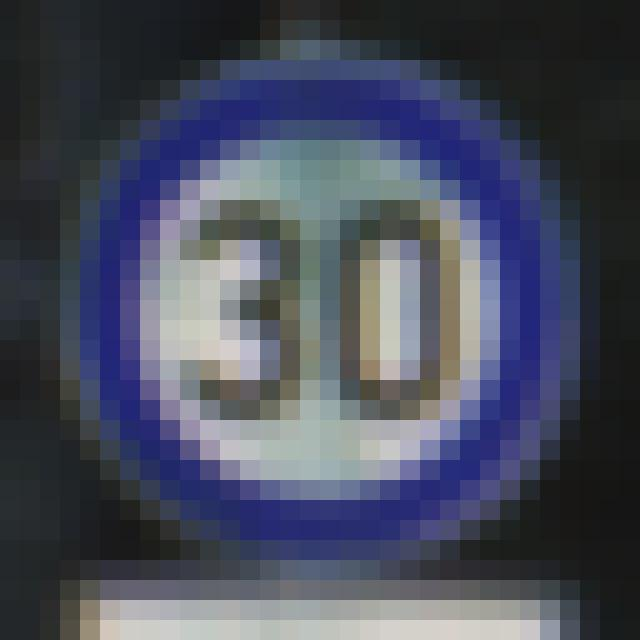SPEED LIMIT 30: (73, 64, 577, 554)
